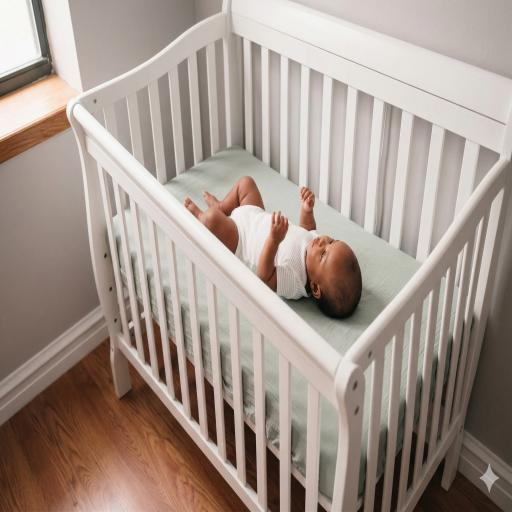baby: (185, 177, 361, 317)
crib: (68, 0, 511, 510)
